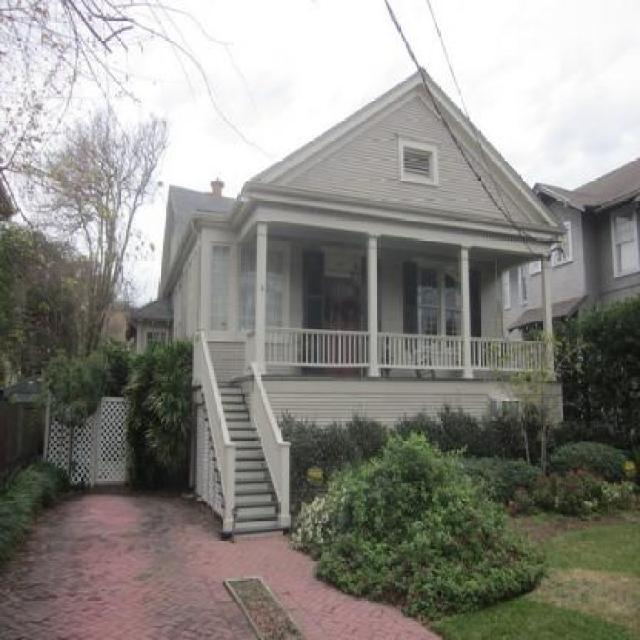stair: (219, 363, 286, 549)
